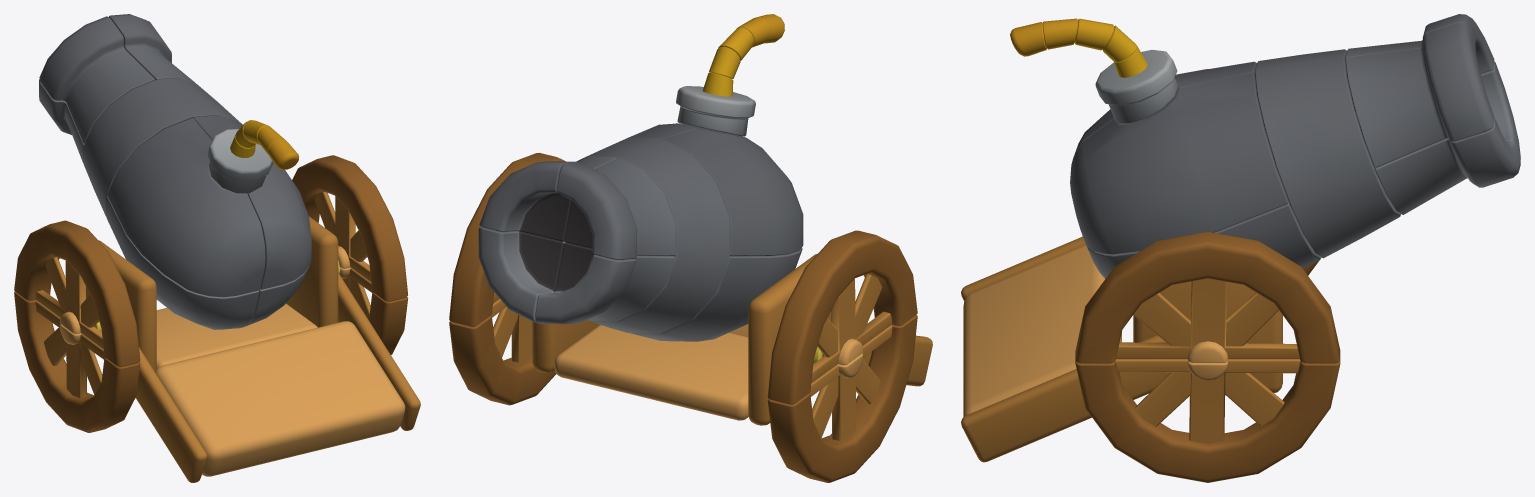
Rendered from Level_P_39.fbx.
The picture shows the model from 3 angles, left to right: view 1: azimuth 30°, elevation 25°; view 2: azimuth 150°, elevation 25°; view 3: azimuth 270°, elevation 25°; orthographic projection. The views are drawn at different scales.
Visible parts, largest first — view 1: Canon_3, Canon_17, Canon_20, Canon_19, Canon_22, Canon_14, Canon_10, Canon_16, Canon_8, Canon_9, Canon_15, Canon_7 (+7 smaller); view 2: Canon_20, Canon_19, Canon_8, Canon_14, Canon_17, Canon_10, Canon_11, Canon_21, Canon_9, Canon_12, Canon_13, Canon_15 (+5 smaller); view 3: Canon_16, Canon_22, Canon_21, Canon_14, Canon_3, Canon_13, Canon_9, Canon_4, Canon_12, Canon_18, Canon_2, Canon_10 (+3 smaller).
Boxes of the visible parts, <box> form: Canon_3: <box>155,321,405,476</box>; Canon_17: <box>107,118,265,297</box>; Canon_20: <box>14,220,140,367</box>; Canon_19: <box>14,291,140,432</box>; Canon_22: <box>292,155,407,301</box>; Canon_14: <box>83,77,239,216</box>; Canon_10: <box>39,16,155,143</box>; Canon_16: <box>193,115,311,289</box>; Canon_8: <box>156,303,317,368</box>; Canon_9: <box>207,120,299,193</box>; Canon_15: <box>106,196,259,329</box>; Canon_7: <box>135,347,207,482</box>; Canon_20: <box>767,230,917,404</box>; Canon_19: <box>767,315,917,482</box>; Canon_8: <box>554,324,748,420</box>; Canon_14: <box>576,138,729,333</box>; Canon_17: <box>662,128,803,256</box>; Canon_10: <box>557,158,675,260</box>; Canon_11: <box>535,242,674,324</box>; Canon_21: <box>449,299,556,405</box>; Canon_9: <box>676,14,784,136</box>; Canon_12: <box>478,227,587,322</box>; Canon_13: <box>479,157,616,241</box>; Canon_15: <box>630,248,802,341</box>; Canon_16: <box>1070,73,1288,254</box>; Canon_22: <box>1075,231,1340,363</box>; Canon_21: <box>1075,359,1340,482</box>; Canon_14: <box>1254,49,1400,258</box>; Canon_3: <box>963,245,1121,417</box>; Canon_13: <box>1345,23,1494,167</box>; Canon_9: <box>1010,18,1178,123</box>; Canon_4: <box>961,335,1169,462</box>; Canon_12: <box>1375,118,1520,214</box>; Canon_18: <box>1087,202,1320,278</box>; Canon_2: <box>1133,281,1282,392</box>; Canon_10: <box>1345,14,1494,73</box>.
Bounding box in the file's own units: 461 × 458 × 616.
